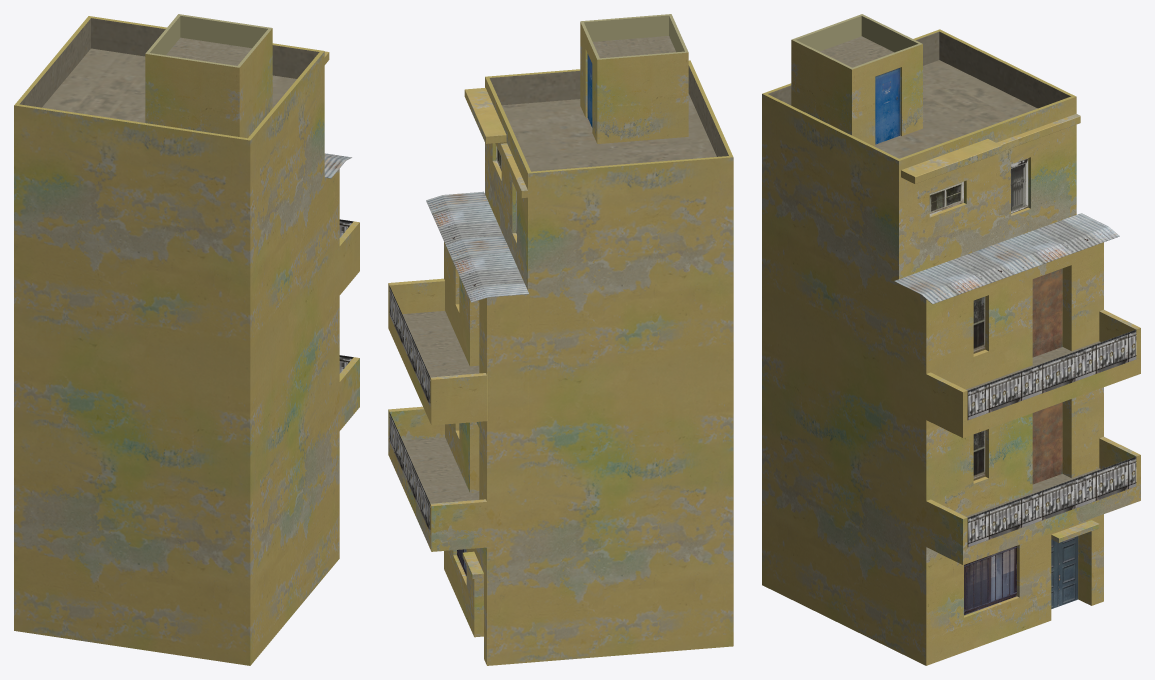
The model's file is indian_style_building.glb.
The picture shows the model from 3 angles, left to right: view 1: azimuth 30°, elevation 25°; view 2: azimuth 150°, elevation 25°; view 3: azimuth 270°, elevation 25°; orthographic projection. The views are drawn at different scales.
Parts seen in each view (by area): view 1: Yellow_Building; view 2: Yellow_Building; view 3: Yellow_Building.
Part boxes in pixels (left/top/right/bottom): Yellow_Building: left=14, top=14, right=359, bottom=665; Yellow_Building: left=388, top=14, right=733, bottom=665; Yellow_Building: left=762, top=14, right=1140, bottom=665.
Size of the model in its own units: 11.04 by 17.25 by 10.81.
Materials: 2 (2 with a texture image).
